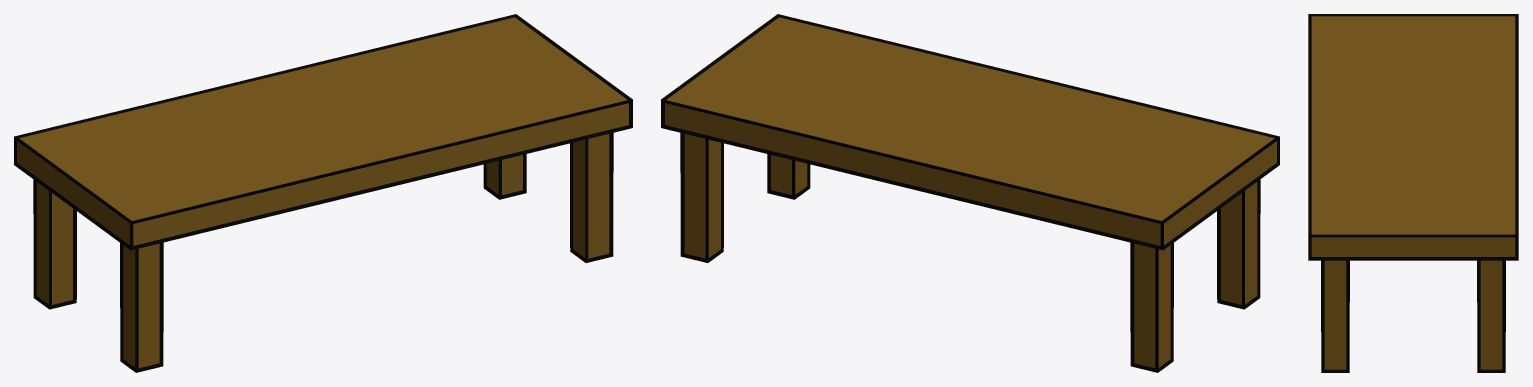
3 views of the same model, side by side, from view 1: azimuth 30°, elevation 25°; view 2: azimuth 150°, elevation 25°; view 3: azimuth 270°, elevation 25° (orthographic). The views are drawn at different scales.
Parts seen in each view (by area): view 1: Table; view 2: Table; view 3: Table.
Boxes of the visible parts, x1,y1,x2,y2 form: Table: [14, 14, 632, 372]; Table: [661, 14, 1279, 372]; Table: [1308, 14, 1518, 372].
Size of the model in its own units: 2.51 by 0.7615 by 1.01.
